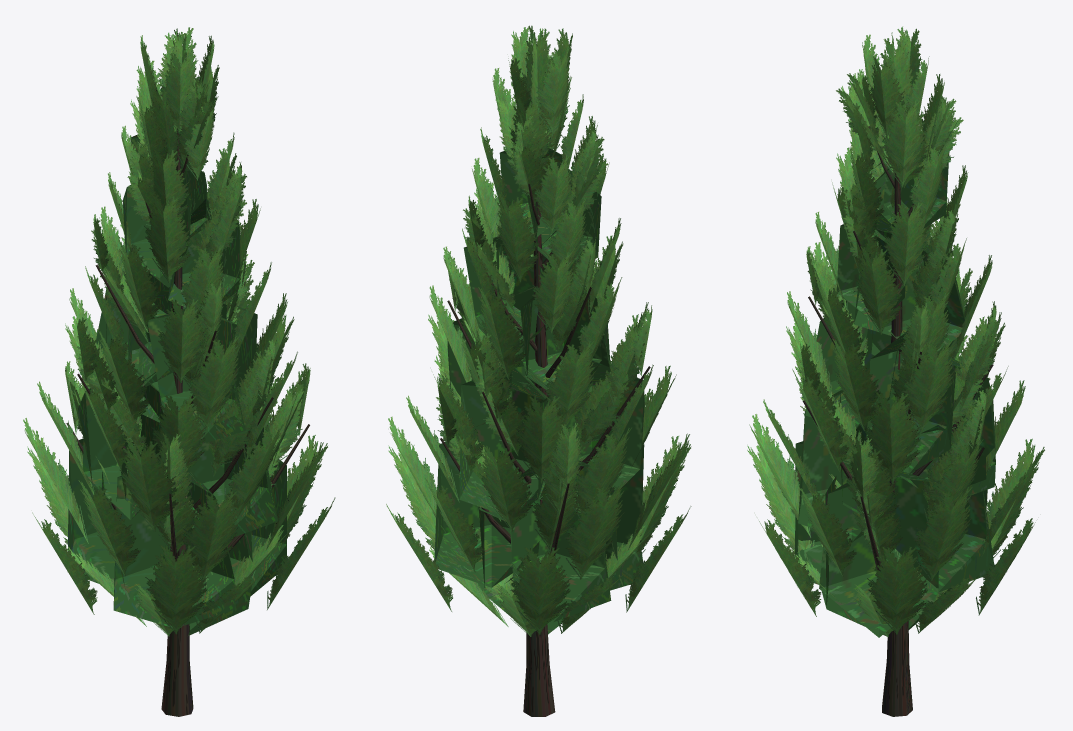
File: pohon_pinus_kecil.glb
3 views of the same model, side by side, from view 1: azimuth 30°, elevation 25°; view 2: azimuth 150°, elevation 25°; view 3: azimuth 270°, elevation 25° (orthographic).
Parts seen in each view (by area): view 1: Daun_Jarum_Cemara_Pinus, Inti_Tajuk_Hijau_Dalam, Batang_Dan_Cabang_Pinus; view 2: Daun_Jarum_Cemara_Pinus, Inti_Tajuk_Hijau_Dalam, Batang_Dan_Cabang_Pinus; view 3: Daun_Jarum_Cemara_Pinus, Inti_Tajuk_Hijau_Dalam, Batang_Dan_Cabang_Pinus.
Part boxes in pixels (left/top/right/bottom): Daun_Jarum_Cemara_Pinus: left=23, top=27, right=335, bottom=636; Inti_Tajuk_Hijau_Dalam: left=67, top=134, right=286, bottom=636; Batang_Dan_Cabang_Pinus: left=66, top=129, right=309, bottom=716; Daun_Jarum_Cemara_Pinus: left=386, top=25, right=691, bottom=636; Inti_Tajuk_Hijau_Dalam: left=434, top=148, right=644, bottom=634; Batang_Dan_Cabang_Pinus: left=440, top=133, right=650, bottom=716; Daun_Jarum_Cemara_Pinus: left=747, top=26, right=1044, bottom=636; Inti_Tajuk_Hijau_Dalam: left=795, top=135, right=995, bottom=637; Batang_Dan_Cabang_Pinus: left=802, top=126, right=993, bottom=716.
Bounding box in the file's own units: 0.9155 × 2.02 × 0.8769.
3 materials, 3 textured.
